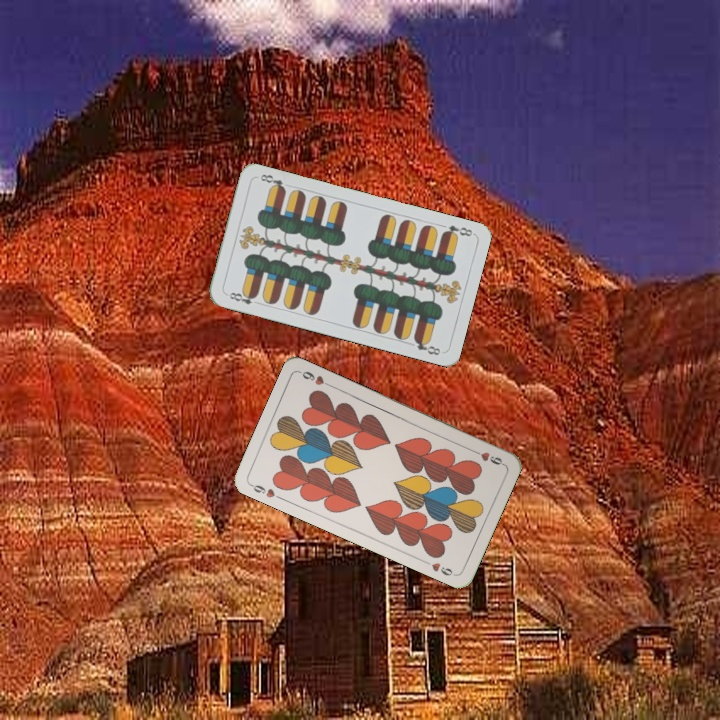E8: (223, 288, 262, 307), (439, 221, 475, 241)
H9: (468, 445, 506, 468), (246, 480, 285, 502)
